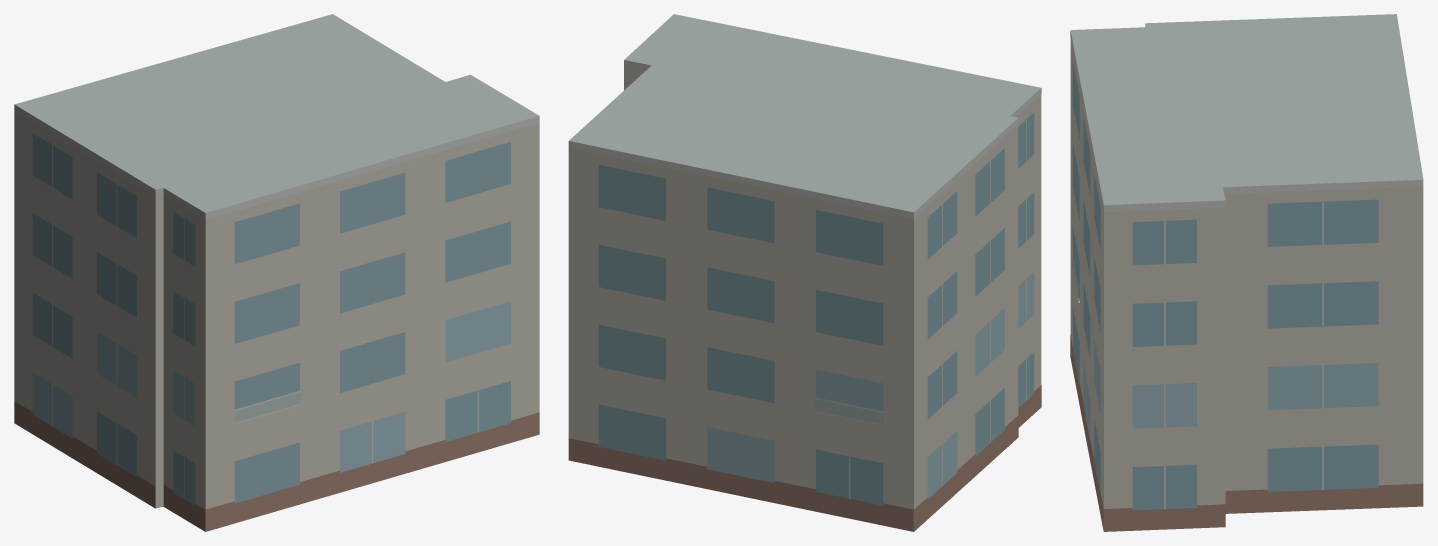
Rendered from survey-upis-32585421.glb.
3 views of the same model, side by side, from view 1: azimuth 30°, elevation 25°; view 2: azimuth 150°, elevation 25°; view 3: azimuth 270°, elevation 25° (orthographic). The views are drawn at different scales.
Visible parts, largest first — view 1: survey-upis-32585421.tmp; view 2: survey-upis-32585421.tmp; view 3: survey-upis-32585421.tmp.
Boxes of the visible parts, x1,y1,x2,y2 form: survey-upis-32585421.tmp: [14, 14, 539, 531]; survey-upis-32585421.tmp: [568, 14, 1041, 531]; survey-upis-32585421.tmp: [1070, 14, 1423, 531].
Bounding box in the file's own units: 14.44 × 11.5 × 11.27.
